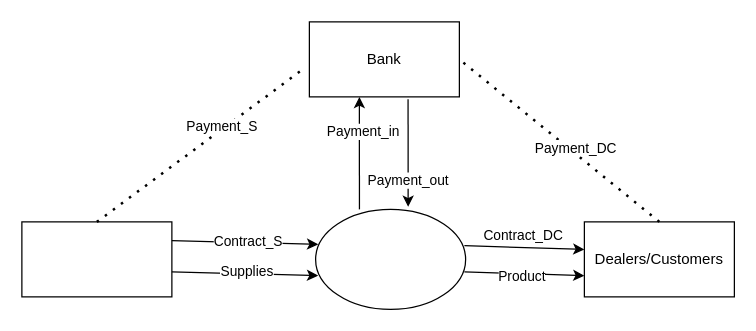
Some shapes in this 756 by 331 pixel diagram are drawn without their labels. The centre of each missing label's shape, as x and y in pixels:
AB „EIKA“: [390,258]
Suppliers: [96,259]
